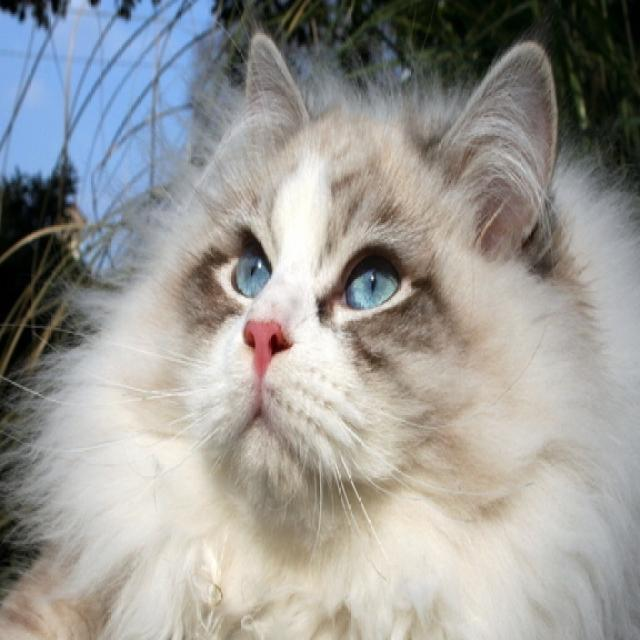Neva Masquerade: (1, 10, 640, 640)
